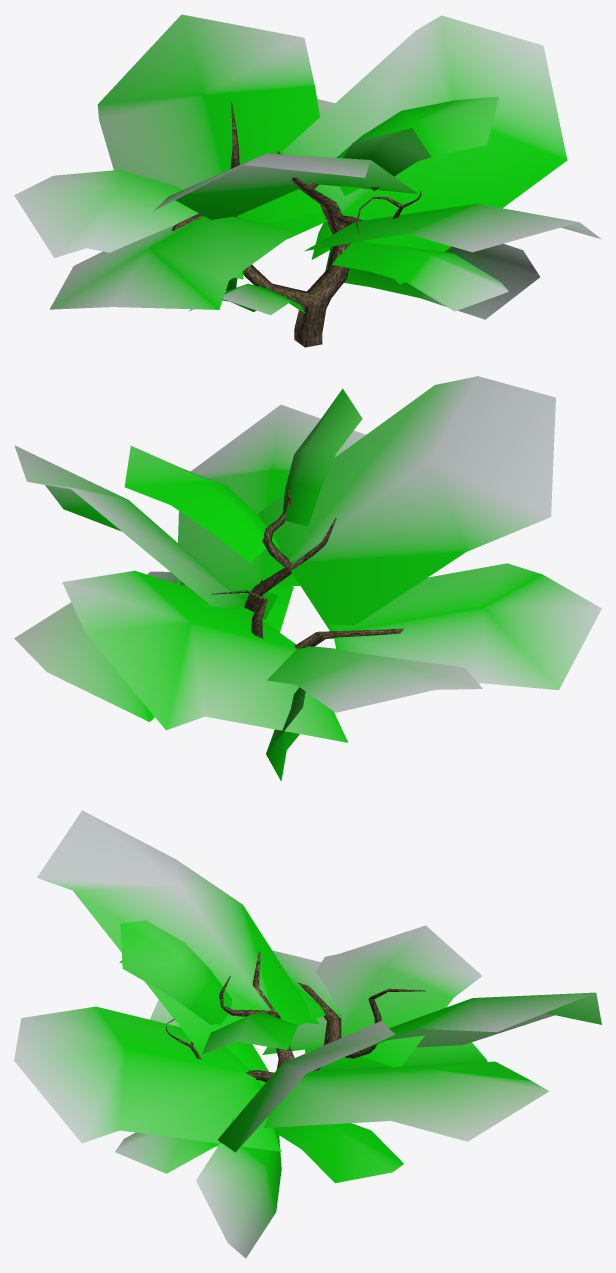
Rendered from SM_Bush01.FBX.
The picture shows the model from 3 angles, top to bottom: view 1: azimuth 30°, elevation 25°; view 2: azimuth 150°, elevation 25°; view 3: azimuth 270°, elevation 25°; orthographic projection. The views are drawn at different scales.
Visible parts, largest first — view 1: SM_Bush01; view 2: SM_Bush01; view 3: SM_Bush01.
Boxes of the visible parts, bbox=[...] form: SM_Bush01: bbox=[14, 14, 601, 347]; SM_Bush01: bbox=[14, 376, 601, 781]; SM_Bush01: bbox=[14, 810, 601, 1258].
Bounding box in the file's own units: 142 × 142 × 77.98.
